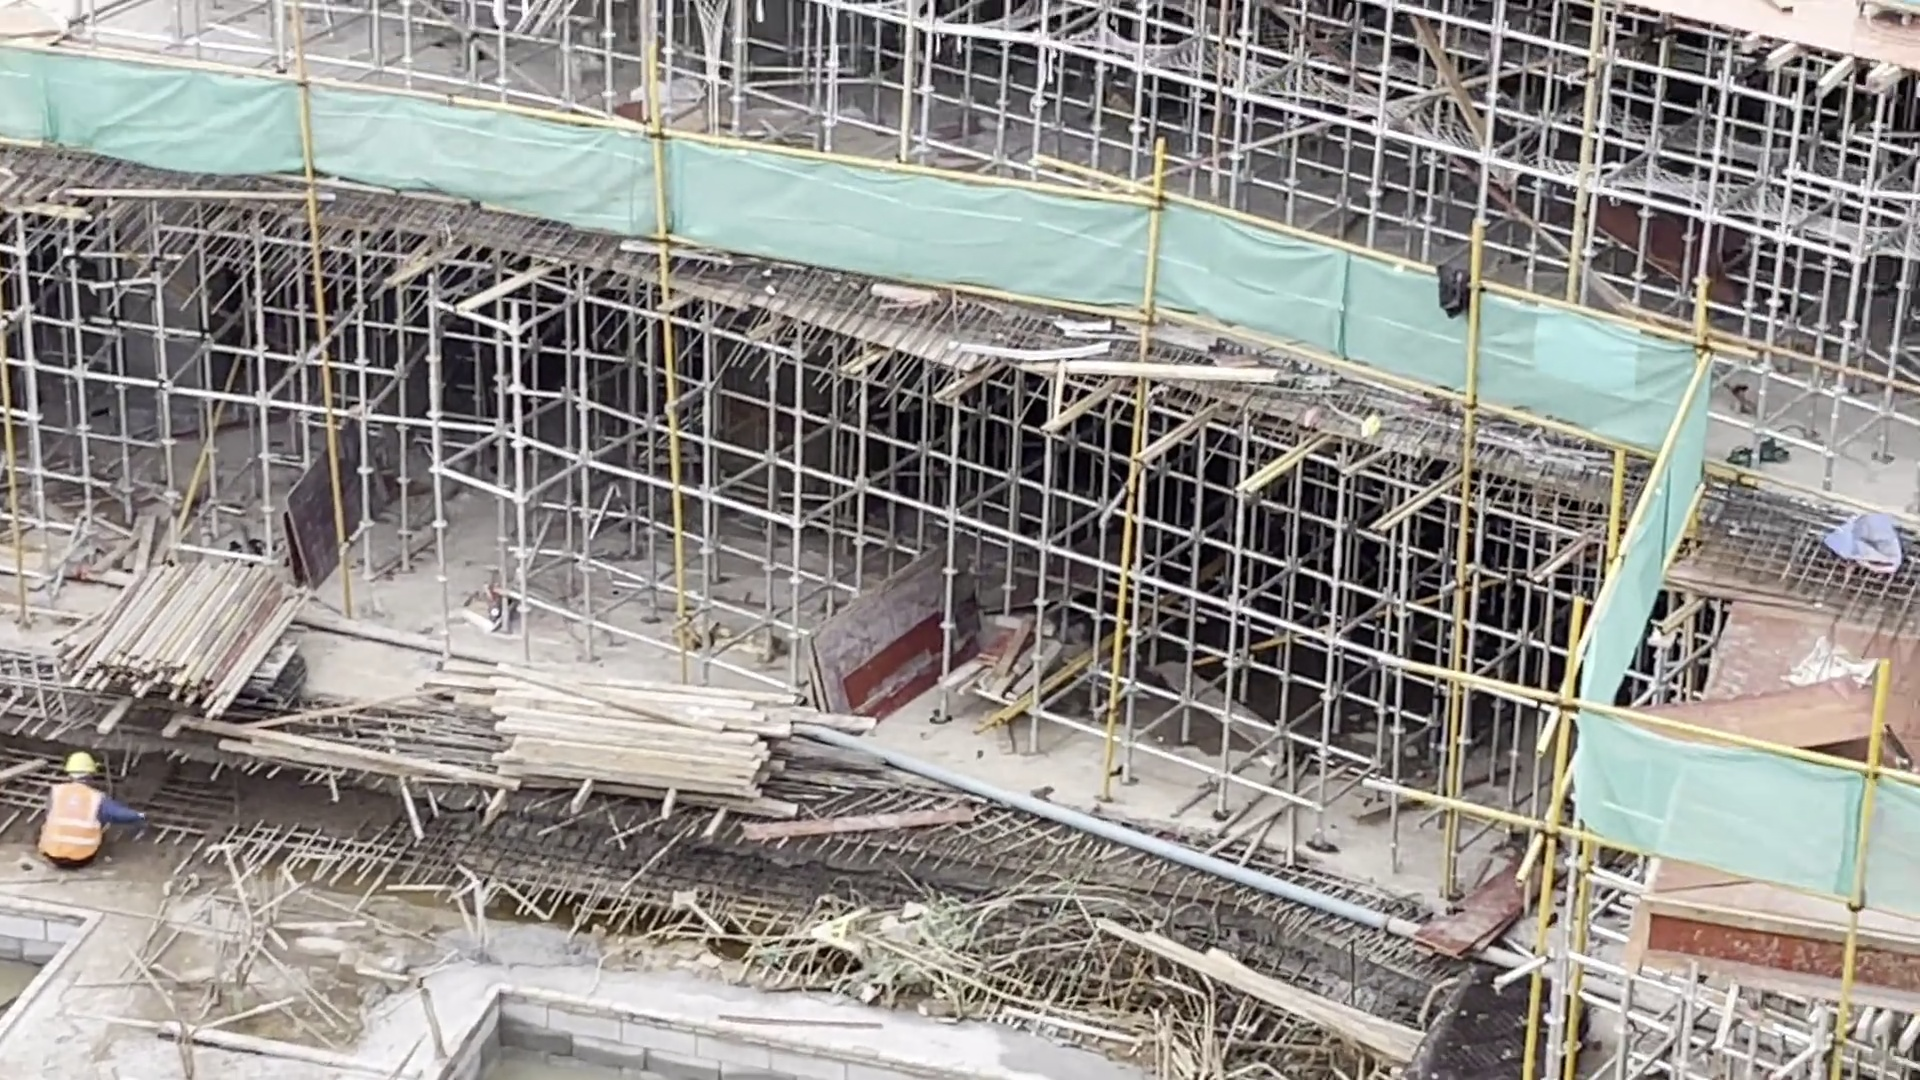helmet: (63, 749, 98, 774)
person: (33, 741, 151, 872)
vest: (38, 779, 106, 868)
wood: (437, 647, 881, 827)
